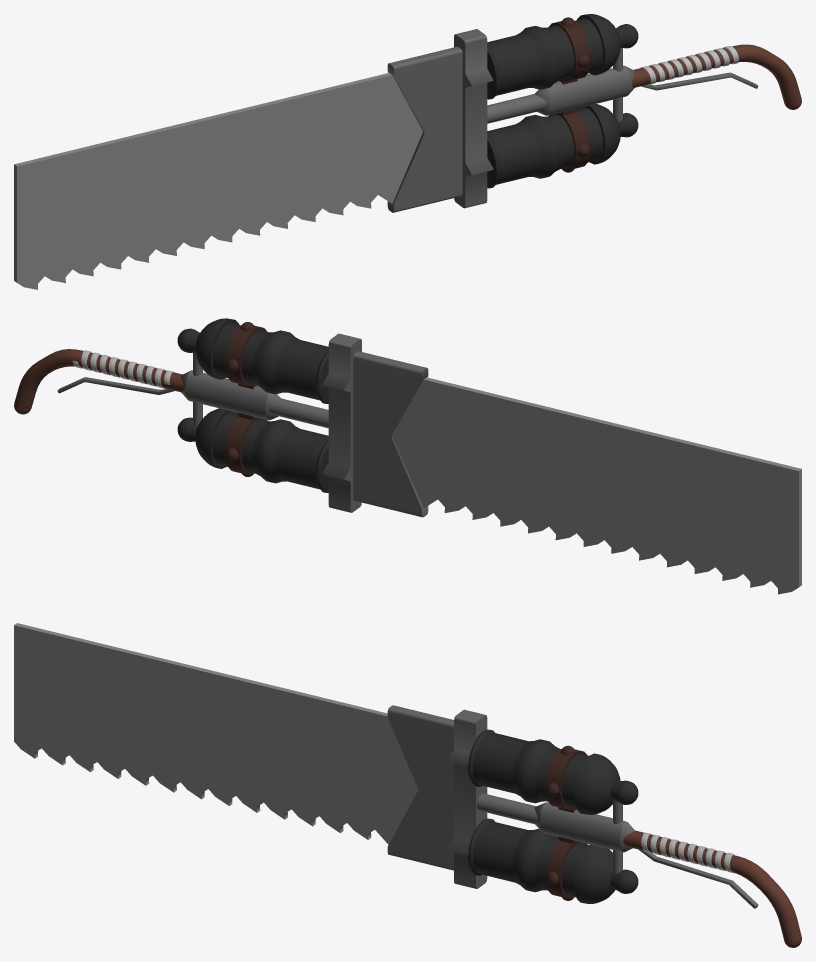
Rendered from Boss_Weapon.fbx.
The picture shows the model from 3 angles, top to bottom: view 1: azimuth 30°, elevation 25°; view 2: azimuth 150°, elevation 25°; view 3: azimuth 330°, elevation 25°; orthographic projection.
Visible parts, largest first — view 1: pCube6, pCube5, pPipe1, pPipe2, pCube2, pCylinder3, pCylinder6, pHelix1, pSphere1, pCylinder4, pSphere2, pCylinder1 (+2 smaller); view 2: pCube6, pCube5, pPipe1, pPipe2, pCube2, pCylinder3, pCylinder6, pHelix1, pSphere1, pCylinder4, pSphere2, pCylinder1 (+2 smaller); view 3: pCube6, pCube5, pPipe1, pPipe2, pCube2, pCylinder6, pCylinder3, pSphere1, pSphere2, pHelix1, pCylinder4, pCylinder1 (+2 smaller).
Boxes of the visible parts, <box> form: pCube6: <box>14,73,422,289</box>; pCube5: <box>387,46,462,212</box>; pPipe1: <box>487,18,603,99</box>; pPipe2: <box>487,107,603,188</box>; pCube2: <box>454,29,493,208</box>; pCylinder3: <box>535,65,634,115</box>; pCylinder6: <box>632,44,801,109</box>; pHelix1: <box>640,46,739,84</box>; pSphere1: <box>577,14,620,75</box>; pCylinder4: <box>487,94,546,123</box>; pSphere2: <box>577,104,620,164</box>; pCylinder1: <box>548,21,590,81</box>; pCube6: <box>392,377,801,594</box>; pCube5: <box>353,351,428,517</box>; pPipe1: <box>212,323,328,403</box>; pPipe2: <box>212,412,328,492</box>; pCube2: <box>322,333,361,512</box>; pCylinder3: <box>181,370,280,420</box>; pCylinder6: <box>14,349,183,414</box>; pHelix1: <box>72,350,173,388</box>; pSphere1: <box>195,318,239,379</box>; pCylinder4: <box>269,398,328,428</box>; pSphere2: <box>195,408,238,468</box>; pCylinder1: <box>225,325,267,386</box>; pCube6: <box>14,623,418,844</box>; pCube5: <box>387,705,453,870</box>; pPipe1: <box>468,729,588,808</box>; pPipe2: <box>468,818,588,897</box>; pCube2: <box>447,709,487,888</box>; pCylinder6: <box>623,830,801,947</box>; pCylinder3: <box>535,802,634,852</box>; pSphere1: <box>574,753,620,814</box>; pSphere2: <box>574,844,615,903</box>; pHelix1: <box>641,832,734,873</box>; pCylinder4: <box>477,793,537,824</box>; pCylinder1: <box>545,749,587,809</box>.
Bounding box in the file's own units: 73.91 × 15.11 × 5.82.
